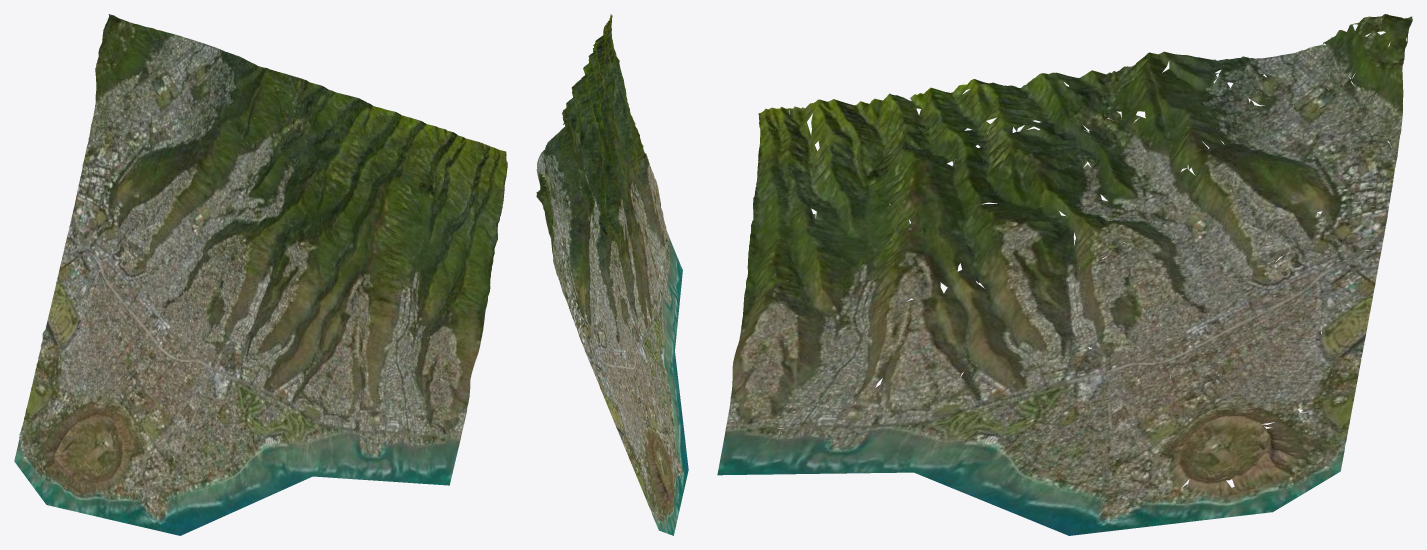
3 views of the same model, side by side, from view 1: azimuth 30°, elevation 25°; view 2: azimuth 150°, elevation 25°; view 3: azimuth 270°, elevation 25° (orthographic). The views are drawn at different scales.
Parts seen in each view (by area): view 1: node_0; view 2: node_0; view 3: node_0.
Part boxes in pixels (<box>): node_0: <box>14,14,507,535</box>; node_0: <box>536,14,688,535</box>; node_0: <box>717,14,1412,535</box>.
Size of the model in its own units: 5045 by 7468 by 8167.
2 materials, 2 textured.
